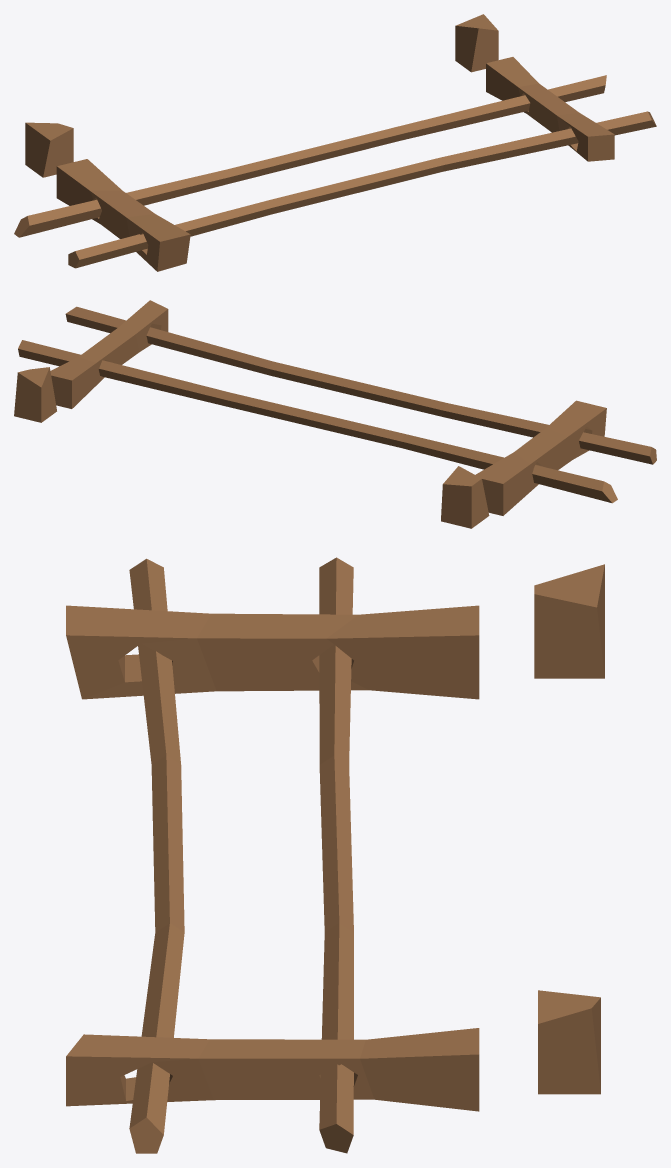
File: Fence_1 Broken.fbx
3 views of the same model, one above another, from view 1: azimuth 30°, elevation 25°; view 2: azimuth 150°, elevation 25°; view 3: azimuth 270°, elevation 25° (orthographic). The views are drawn at different scales.
Parts seen in each view (by area): view 1: FenceBroken_mesh; view 2: FenceBroken_mesh; view 3: FenceBroken_mesh.
Part boxes in pixels (x1,y1,x2,y2): FenceBroken_mesh: (14, 14, 656, 271); FenceBroken_mesh: (14, 300, 656, 528); FenceBroken_mesh: (66, 557, 604, 1153).
Bounding box in the file's own units: 367 × 31.3 × 145.
